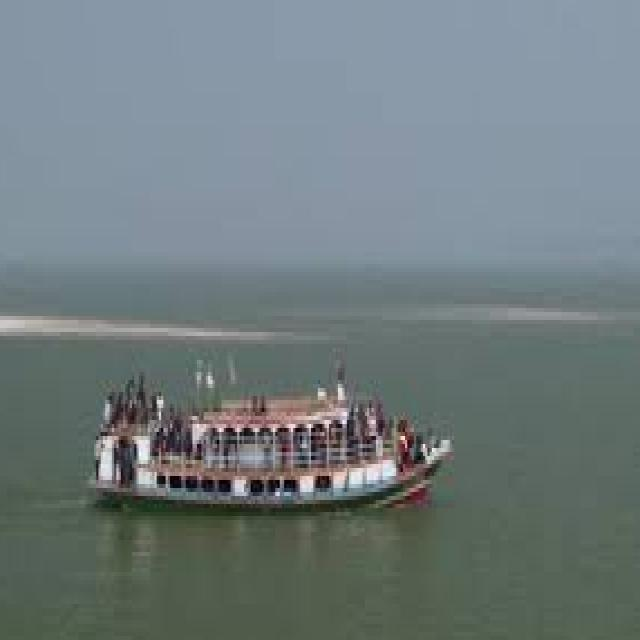houseboat: (90, 340, 467, 518)
